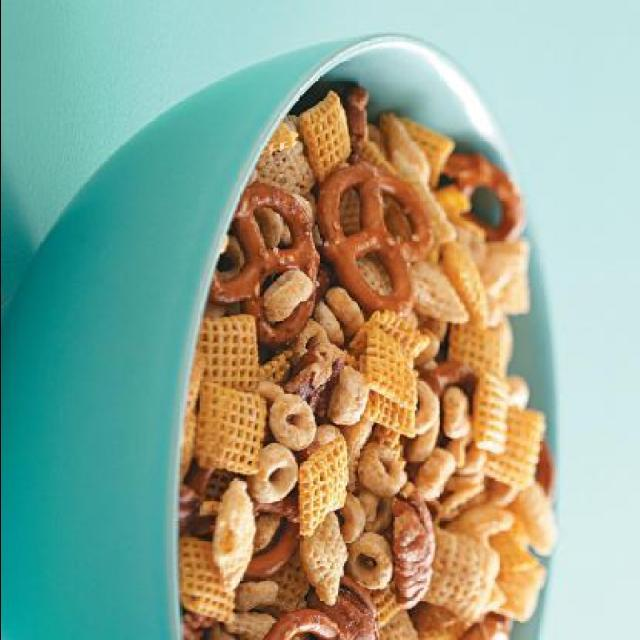Salatini packaged: (172, 98, 558, 640)
